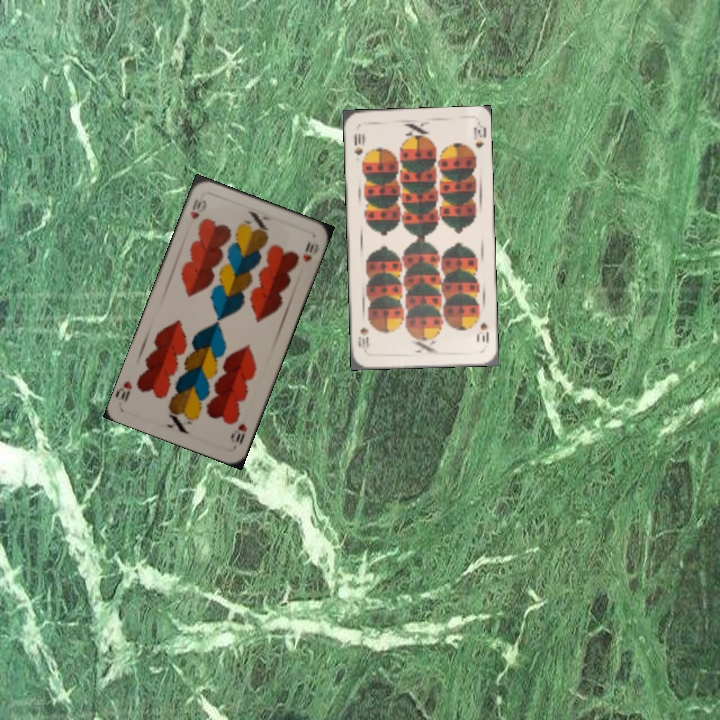H10: (227, 419, 250, 447), (186, 195, 208, 222)
S10: (350, 129, 366, 158), (477, 318, 492, 346)
